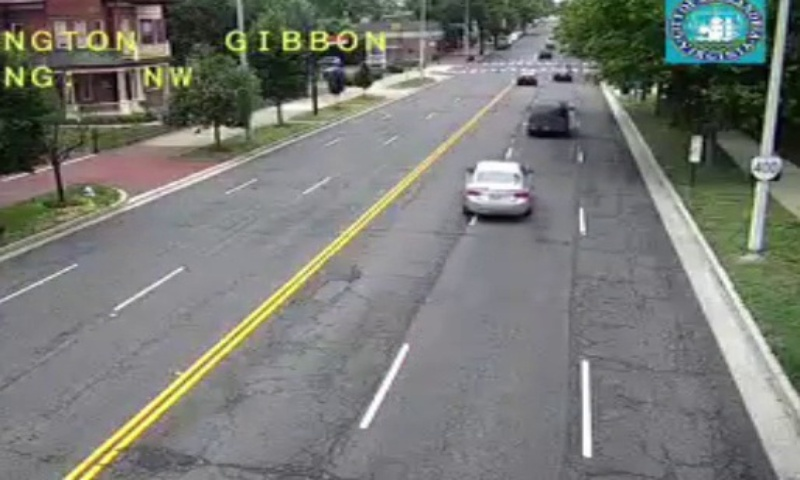car: (463, 160, 532, 216), (527, 101, 570, 134)
